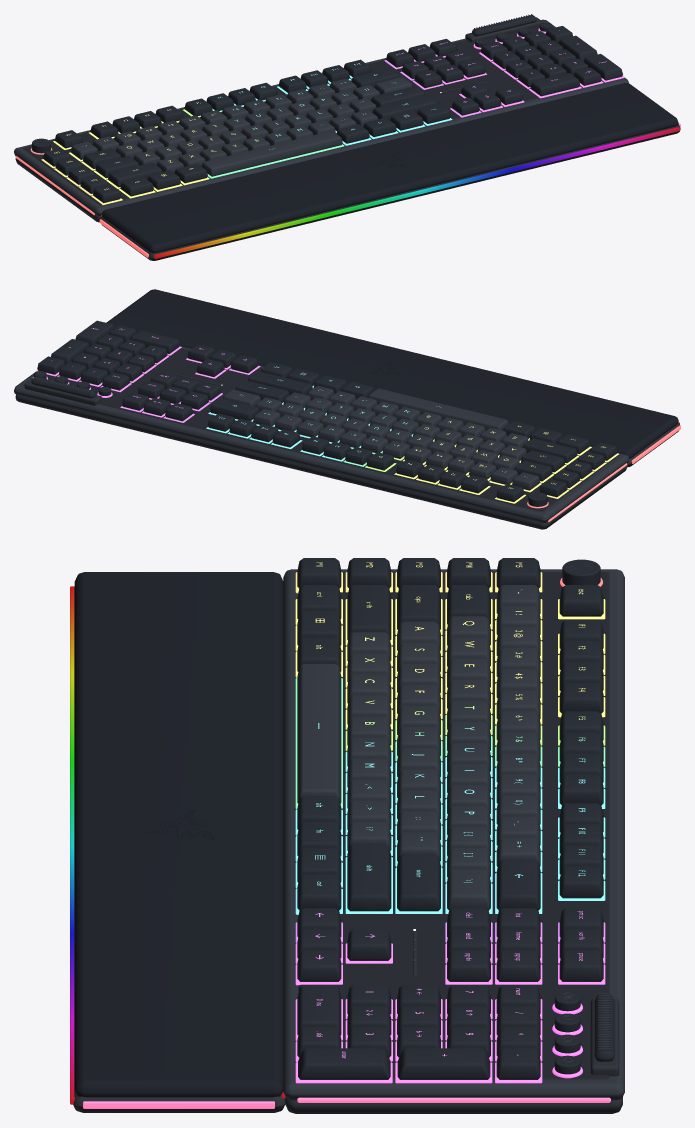
Rendered from blackwidow-v4-pro.glb.
The picture shows the model from 3 angles, top to bottom: view 1: azimuth 30°, elevation 25°; view 2: azimuth 150°, elevation 25°; view 3: azimuth 270°, elevation 25°; orthographic projection. The views are drawn at different scales.
Parts seen in each view (by area): view 1: Wrist rest | Padded top, Aluminum frame, Switch plate, Wrist rest | Foundation, RGB | Wrist rest front edge, Key | Space, Key | Shift.001, Key | Numpad 0, Key | Shift, Key | Enter, Key | Numpad Enter, Key | Backspace (+14 smaller); view 2: Wrist rest | Padded top, Aluminum frame, Switch plate, Lower shell, Key | Space, Key | Shift.001, Key | Backspace, Key | Shift, Key | Enter, Key | Numpad 0, Volume roller | Cradle, Key | Numpad Enter (+13 smaller); view 3: Wrist rest | Padded top, Switch plate, Aluminum frame, Key | Space, Lower shell, Key | Shift.001, Key | Numpad +, Key | Numpad Enter, RGB | Wrist rest front edge, Key | Enter, Wrist rest | Foundation, Key | Backspace (+108 smaller).
Part boxes in pixels (<box>): Wrist rest | Padded top: <box>102,83,678,253</box>; Aluminum frame: <box>14,19,628,215</box>; Switch plate: <box>23,22,604,205</box>; Wrist rest | Foundation: <box>100,124,680,260</box>; RGB | Wrist rest front edge: <box>154,127,679,258</box>; Key | Space: <box>201,130,342,176</box>; Key | Shift.001: <box>372,95,437,120</box>; Key | Numpad 0: <box>530,73,579,96</box>; Key | Shift: <box>108,162,162,187</box>; Key | Enter: <box>371,86,424,107</box>; Key | Numpad Enter: <box>583,54,622,80</box>; Key | Backspace: <box>351,68,400,87</box>; Wrist rest | Padded top: <box>106,289,678,458</box>; Aluminum frame: <box>14,346,628,522</box>; Switch plate: <box>23,348,619,512</box>; Lower shell: <box>15,394,627,529</box>; Key | Space: <box>368,388,508,430</box>; Key | Shift.001: <box>248,371,312,394</box>; Key | Backspace: <box>210,398,259,420</box>; Key | Shift: <box>523,438,577,463</box>; Key | Enter: <box>235,380,289,402</box>; Key | Numpad 0: <box>131,330,179,353</box>; Volume roller | Cradle: <box>24,379,102,405</box>; Key | Numpad Enter: <box>75,320,114,346</box>; Wrist rest | Padded top: <box>74,572,283,1097</box>; Switch plate: <box>298,572,609,1079</box>; Aluminum frame: <box>283,569,624,1100</box>; Key | Space: <box>297,664,341,803</box>; Lower shell: <box>285,1097,622,1113</box>; Key | Shift.001: <box>347,843,391,911</box>; Key | Numpad +: <box>397,1048,490,1079</box>; Key | Numpad Enter: <box>298,1048,390,1079</box>; RGB | Wrist rest front edge: <box>70,586,74,1104</box>; Key | Enter: <box>397,853,440,911</box>; Wrist rest | Foundation: <box>73,587,285,1112</box>; Key | Backspace: <box>496,858,540,910</box>.
Size of the model in its own units: 0.4713 by 0.0222 by 0.2121.
40 materials, 2 textured.
